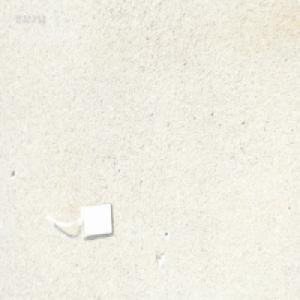LuggageTag: (48, 198, 117, 240)
